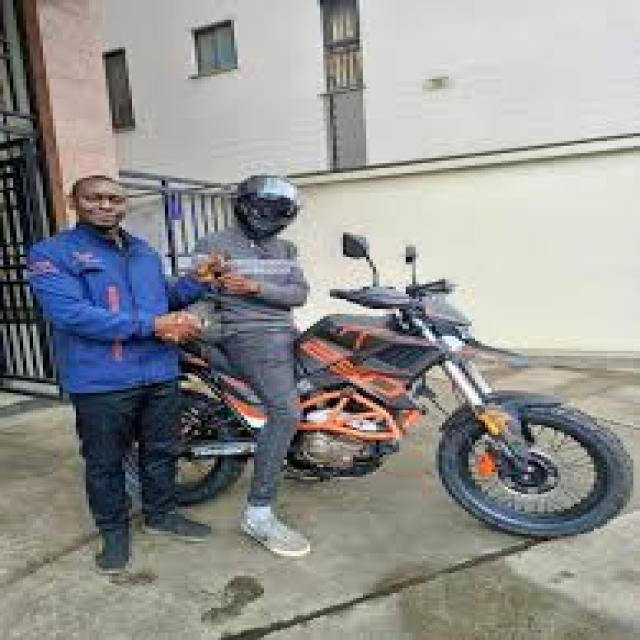bodaboda: (117, 216, 636, 550)
